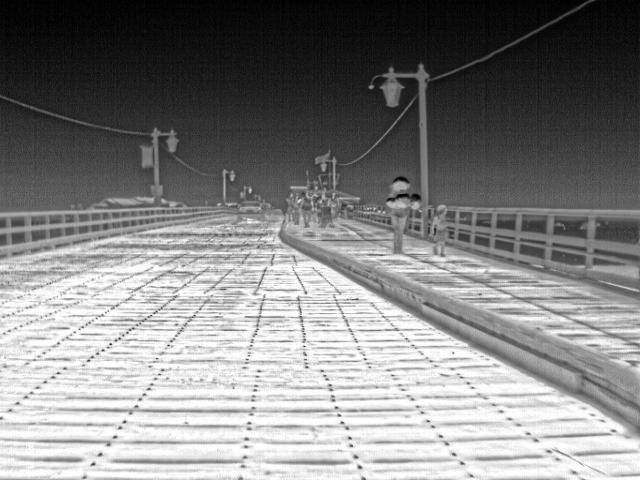car: (237, 198, 266, 223)
person: (388, 181, 409, 252), (429, 205, 451, 254), (297, 191, 315, 228), (316, 193, 331, 228), (284, 191, 297, 224)
